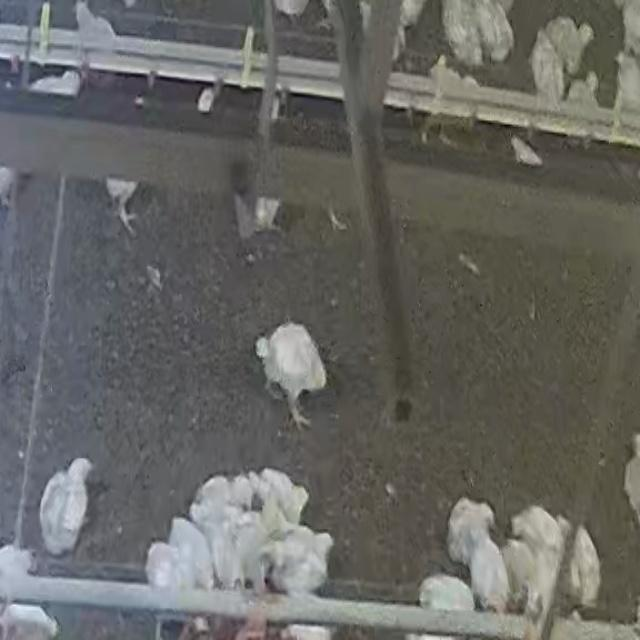chicken: (250, 324, 330, 409), (38, 455, 96, 555), (276, 530, 335, 588), (189, 471, 251, 525), (448, 499, 494, 568), (470, 0, 517, 67), (251, 467, 307, 523), (542, 14, 597, 71), (442, 0, 486, 70), (565, 72, 608, 142), (515, 503, 573, 554), (173, 519, 213, 591), (570, 523, 603, 607), (242, 514, 278, 590), (499, 539, 537, 608), (469, 536, 502, 613), (147, 543, 196, 593), (529, 31, 565, 99), (419, 572, 473, 615), (213, 519, 236, 586)
